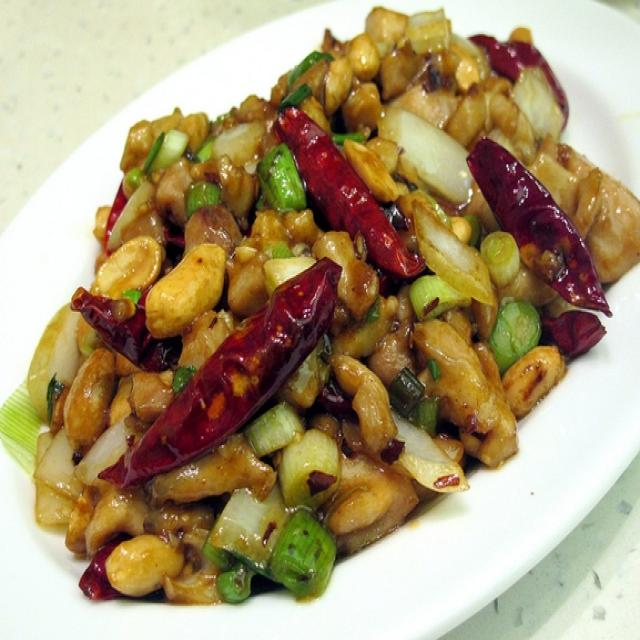鸡肉料理 含炸鸡: (18, 11, 621, 610)
